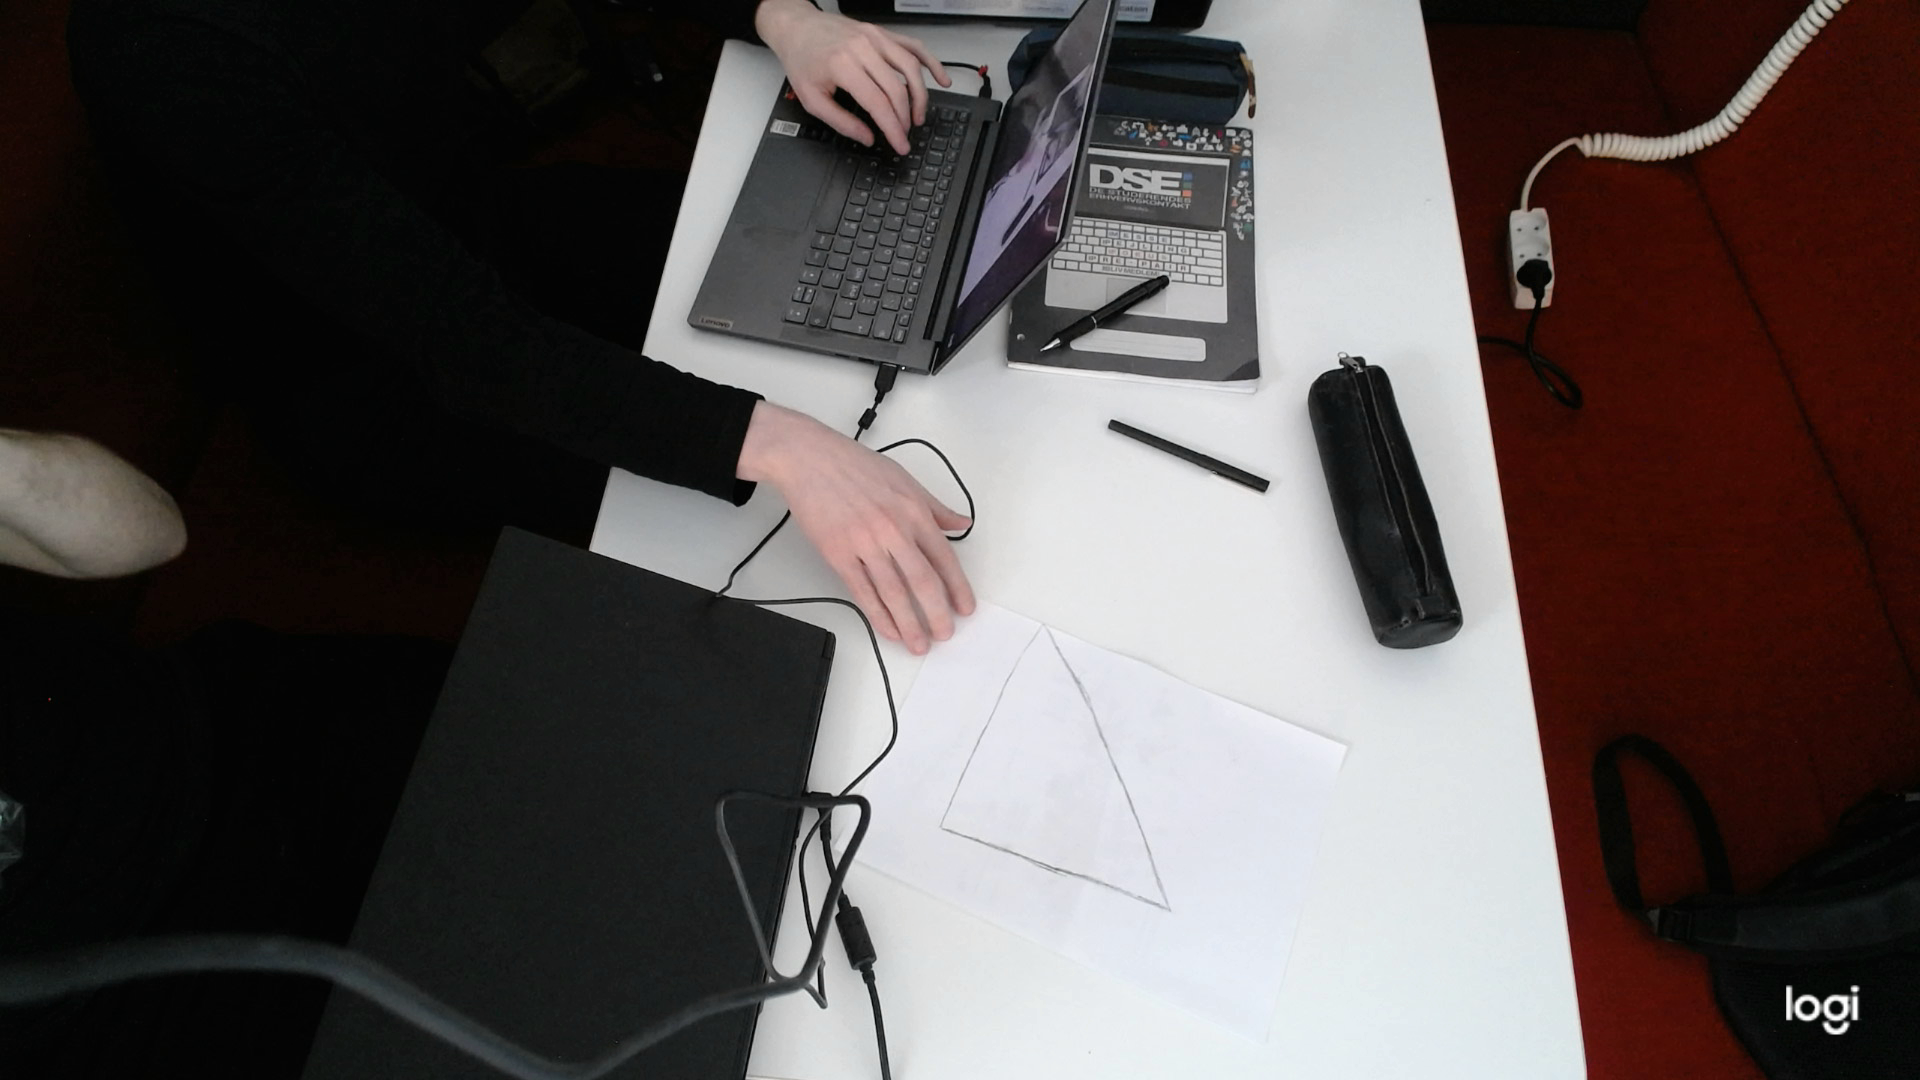Triangle: (934, 620, 1182, 922)
